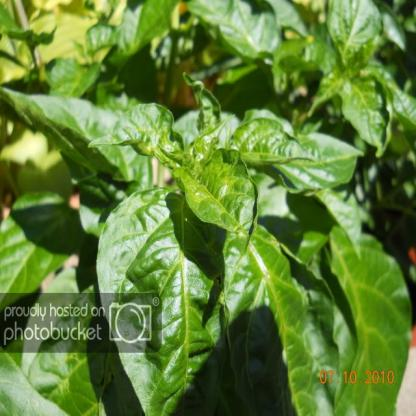Bell_pepper leaf: (98, 184, 225, 415), (223, 228, 325, 415), (177, 148, 259, 238), (87, 101, 187, 171), (233, 114, 325, 170), (232, 113, 324, 168)
